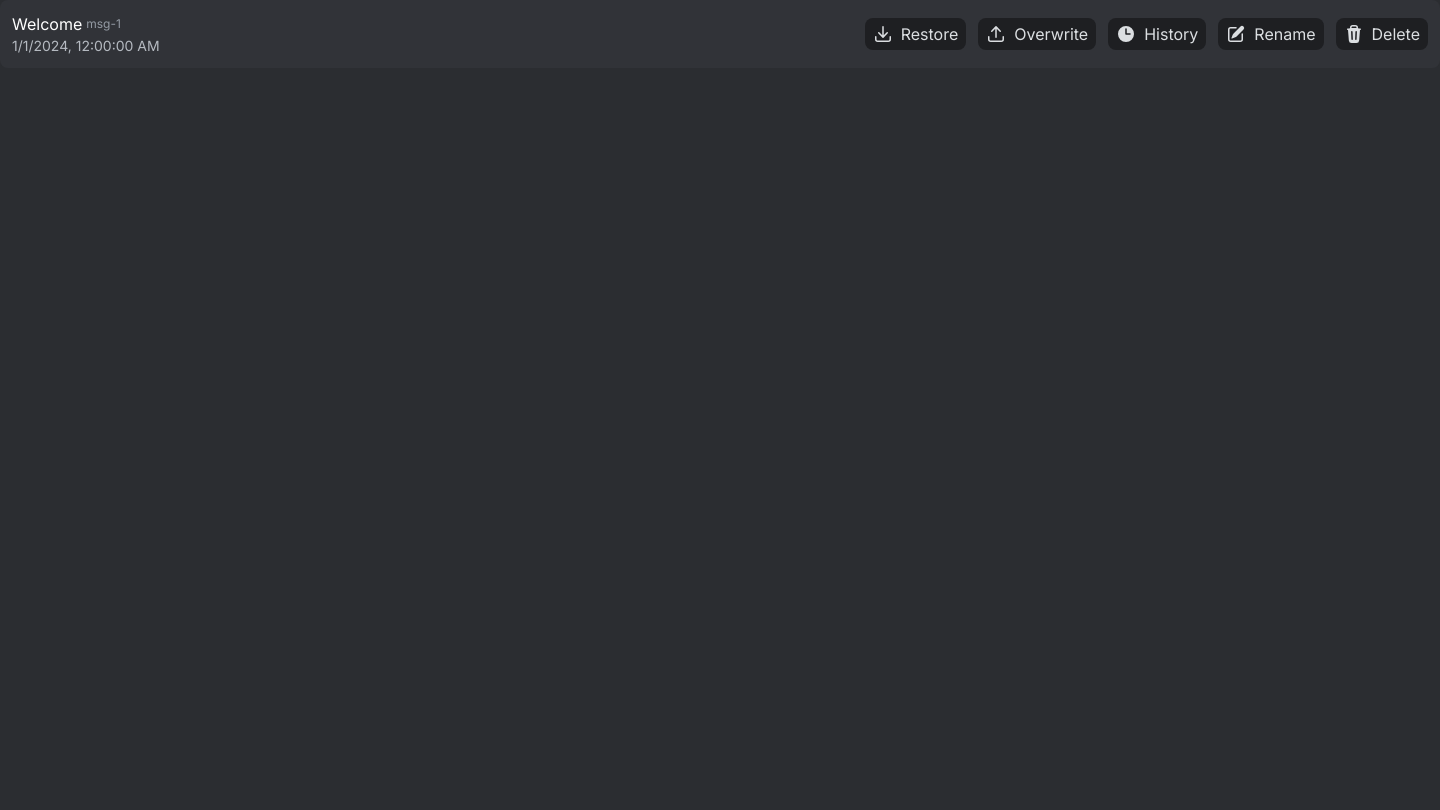
Test: an empty history explains when versions are kept
Click the button named "Message History" at {"x": 1157, "y": 34}, box [1108,18,1206,50]
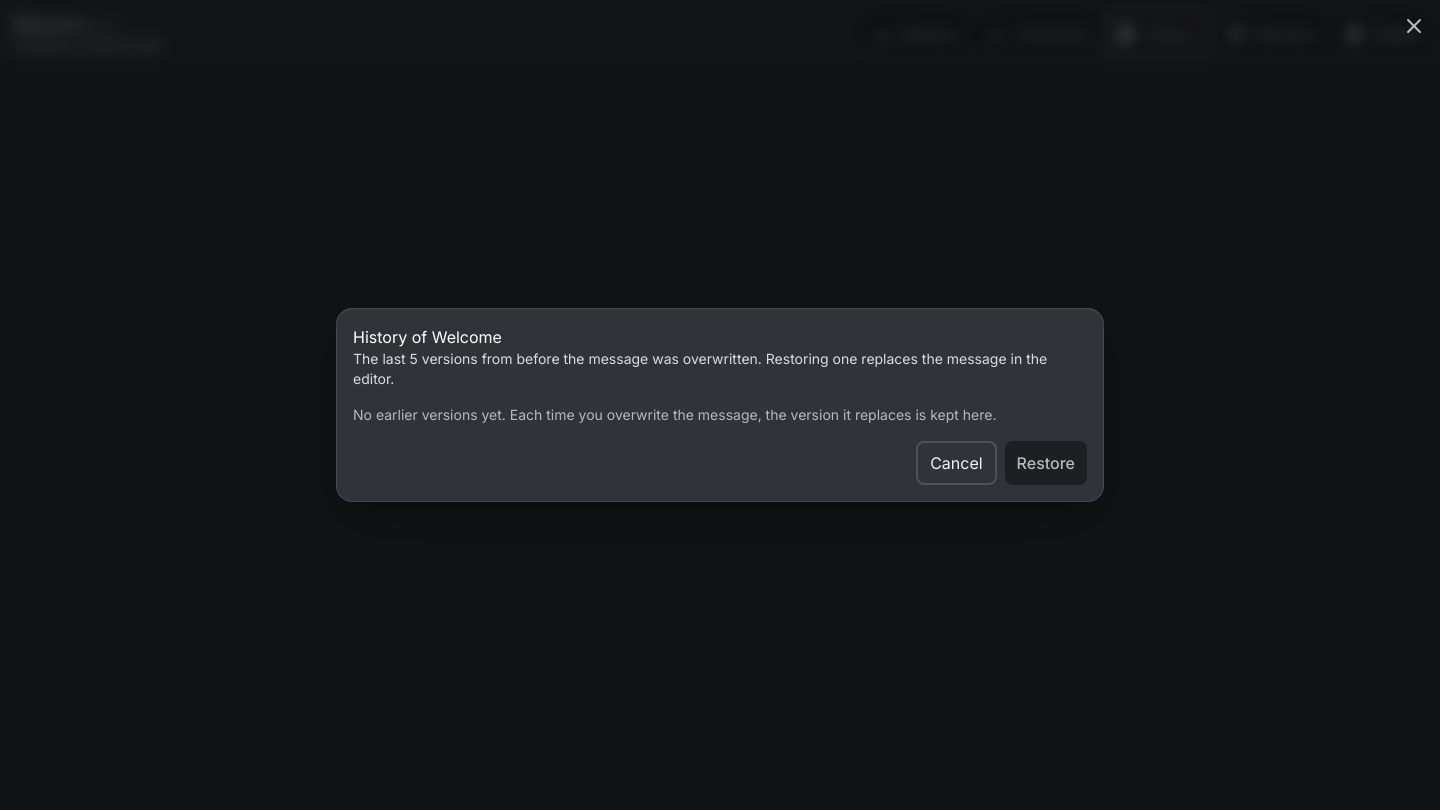
Check: the text "No earlier versions yet" is shown, box [353,406,996,423]
Check: the button "Restore" is disabled, box [1005,441,1087,485]
